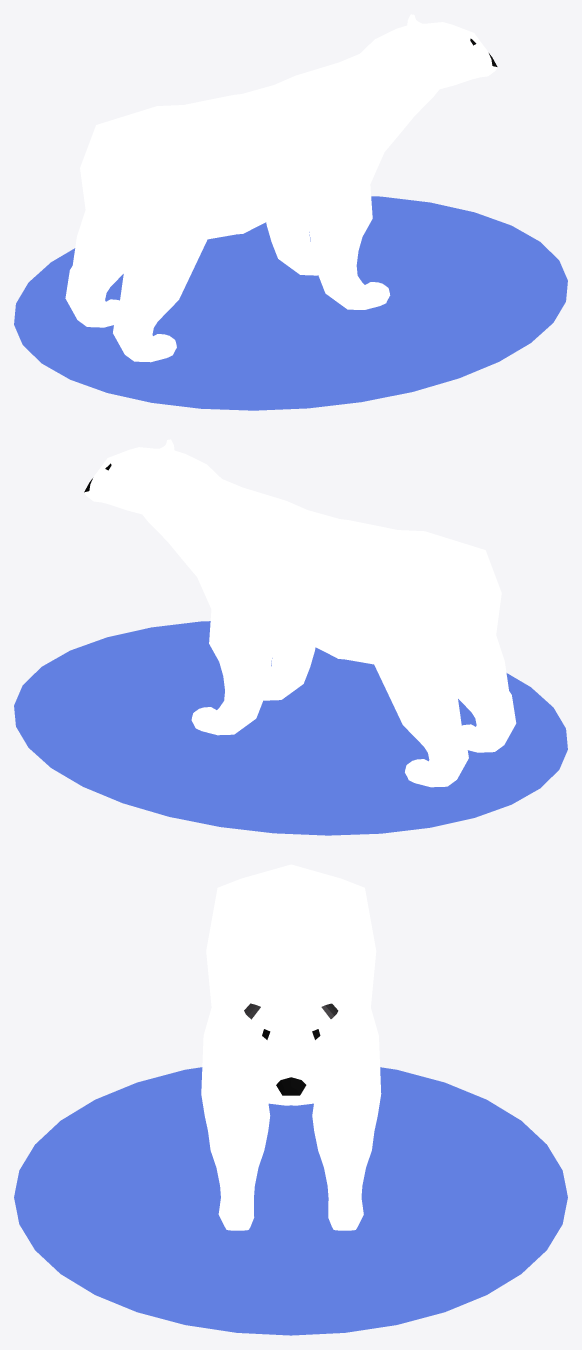
File: bear.gltf
The picture shows the model from 3 angles, top to bottom: view 1: azimuth 30°, elevation 25°; view 2: azimuth 150°, elevation 25°; view 3: azimuth 270°, elevation 25°; orthographic projection. The views are drawn at different scales.
Parts seen in each view (by area): view 1: Circle_3, Polar Bear_1; view 2: Circle_3, Polar Bear_1; view 3: Circle_3, Polar Bear_1.
Boxes of the visible parts, left/top/right/bottom form: Circle_3: left=14, top=196, right=567, bottom=410; Polar Bear_1: left=65, top=14, right=497, bottom=362; Circle_3: left=14, top=621, right=567, bottom=835; Polar Bear_1: left=84, top=439, right=516, bottom=787; Circle_3: left=14, top=1067, right=567, bottom=1335; Polar Bear_1: left=201, top=864, right=381, bottom=1230.
Bounding box in the file's own units: 6.06 × 2.86 × 5.14.
